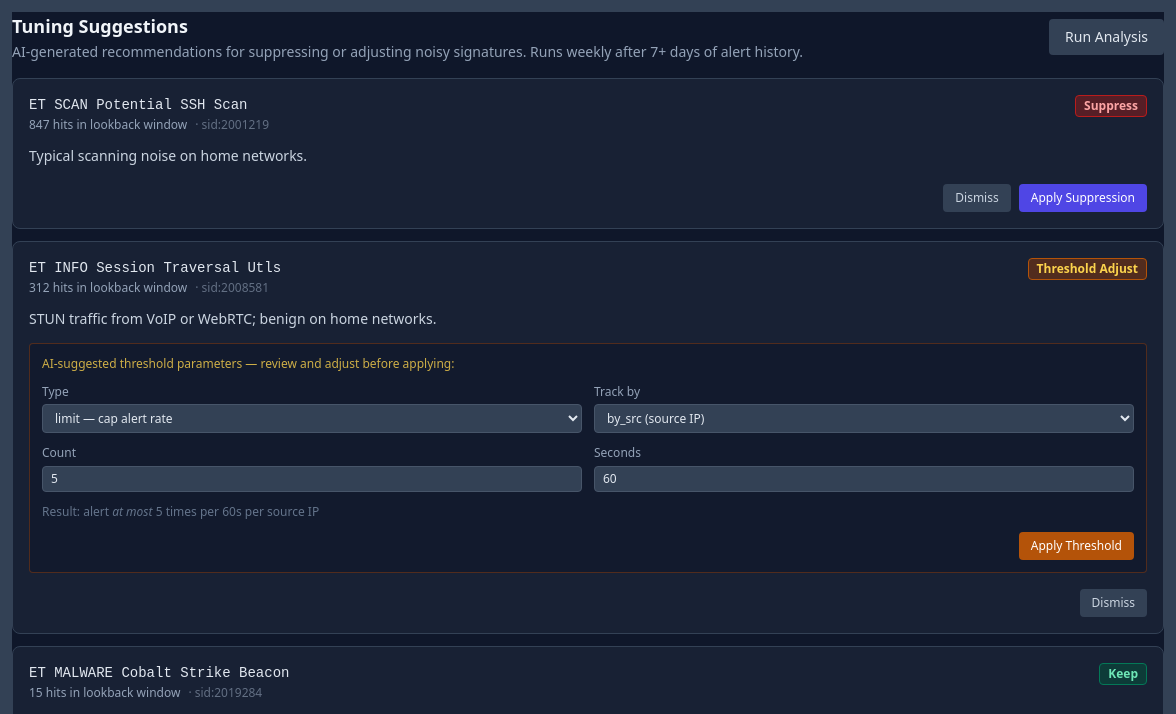
TuningSuggestionsSection — Run Analysis › shows error when run fails (LLM not configured)
Click the button "Run Analysis" at (1107, 37), box [1049, 19, 1164, 55]
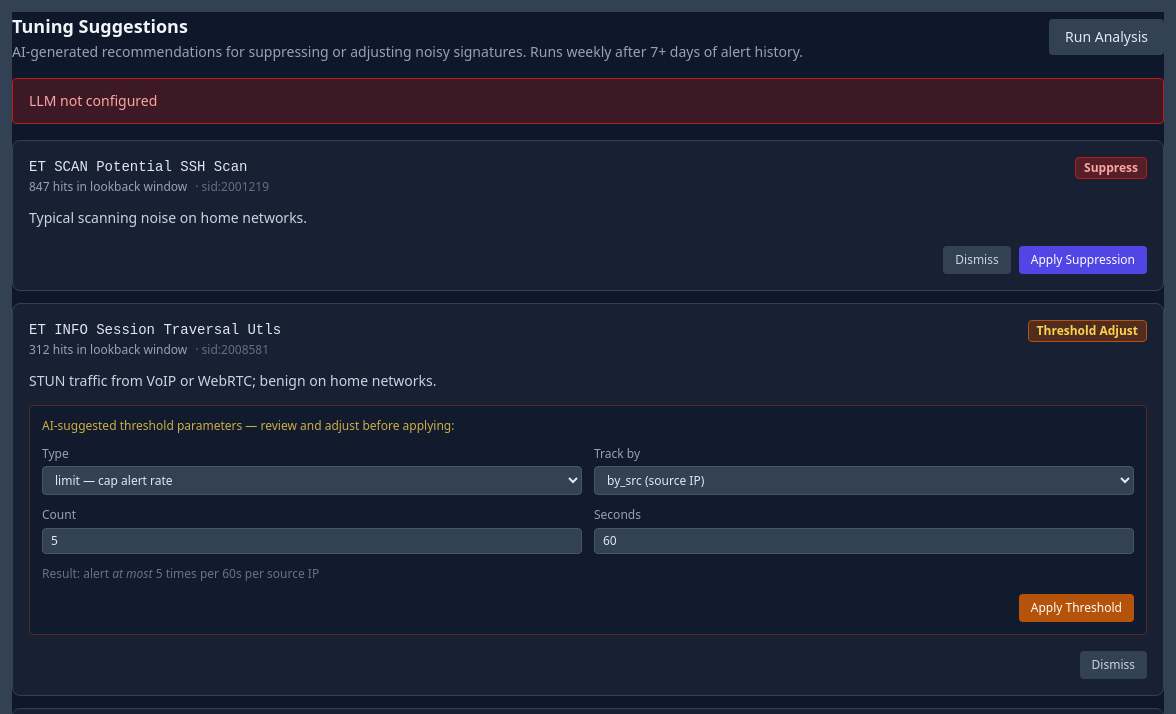
Expected: the text "LLM not configured" is shown, [12, 78, 1164, 124]
